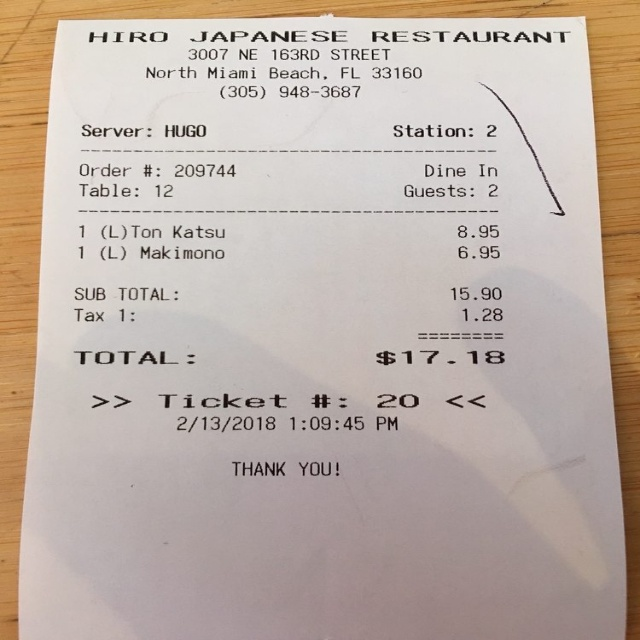invoice_table: (77, 223, 503, 262)
invoice_title: (88, 30, 572, 100)
invoice_total: (74, 349, 506, 366)
